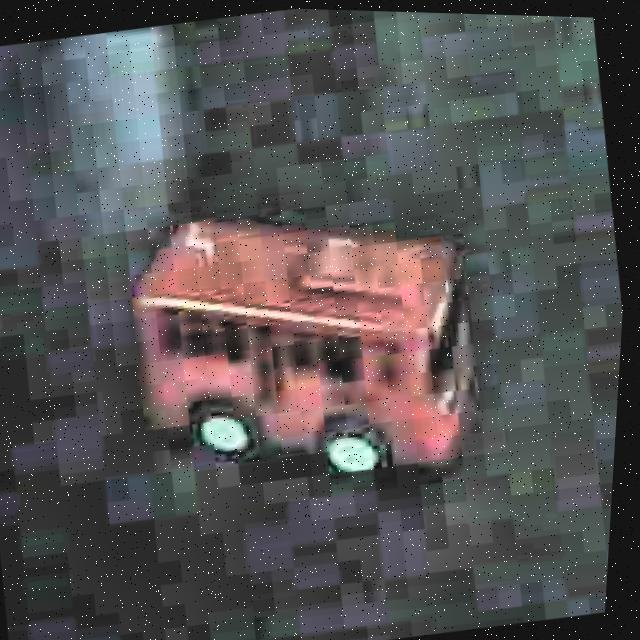bus: (96, 163, 508, 537)
